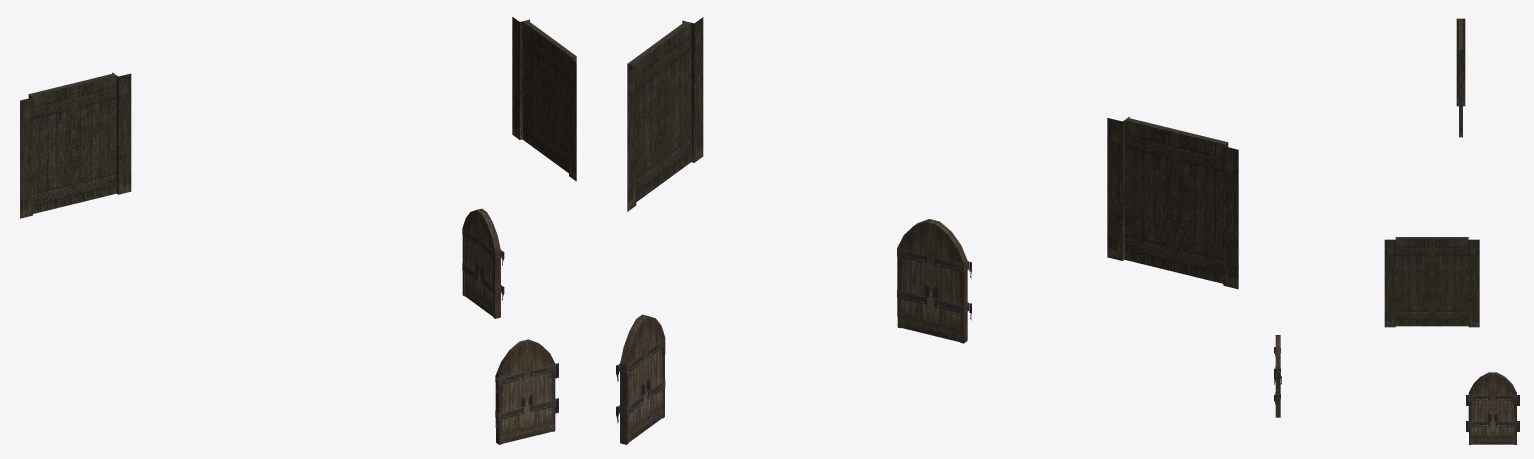
The model's file is eso_gu9_DocksWarehouseDoors-transformed.glb.
The picture shows the model from 3 angles, left to right: view 1: azimuth 30°, elevation 25°; view 2: azimuth 150°, elevation 25°; view 3: azimuth 270°, elevation 25°; orthographic projection. The views are drawn at different scales.
Parts seen in each view (by area): view 1: default; view 2: default; view 3: default.
Boxes of the visible parts, <box> form: default: <box>20,17,576,444</box>; default: <box>616,17,1238,444</box>; default: <box>1274,18,1519,444</box>.
Bounding box in the file's own units: 19.92 × 12.58 × 11.03.
2 materials, 2 textured.
